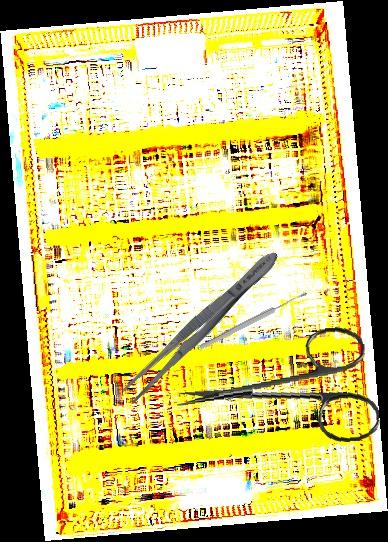Dressing Forceps: (118, 244, 286, 407)
Iris Scissors: (170, 323, 382, 460)
Surgical Spoon: (198, 290, 309, 351)
